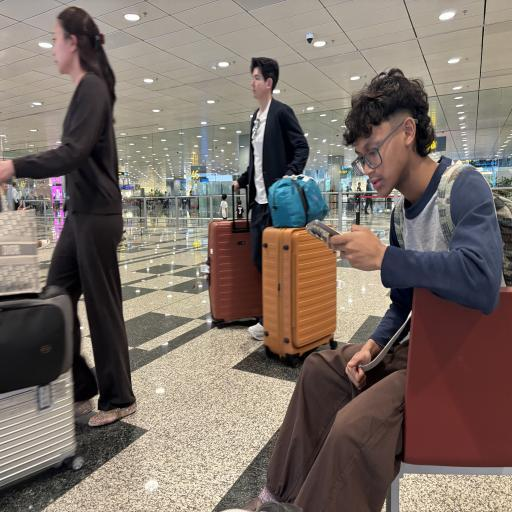person_with_luggage_left: (0, 13, 134, 467), (202, 51, 316, 341)
